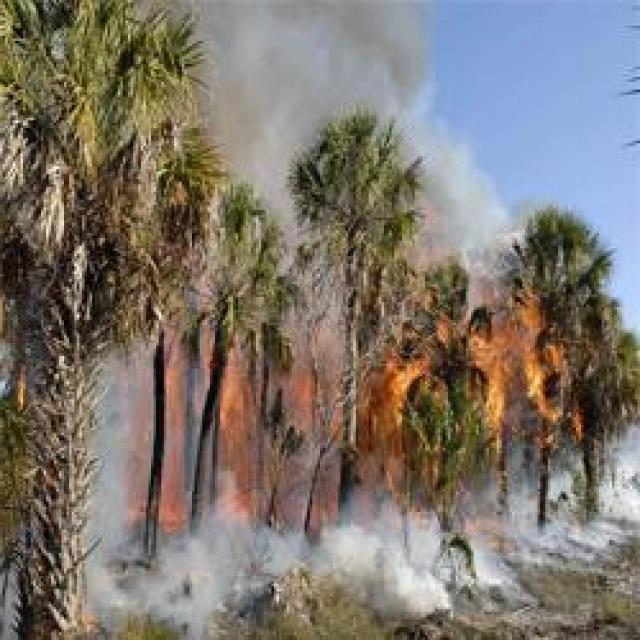smoke: (338, 504, 460, 616), (222, 0, 317, 133), (110, 534, 232, 634), (307, 1, 426, 101), (100, 419, 138, 551), (314, 522, 372, 570), (460, 174, 498, 230)
